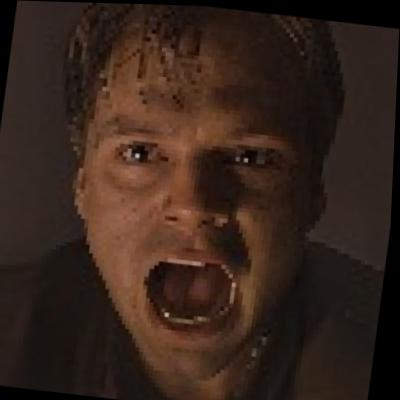angry: (49, 21, 330, 373)
